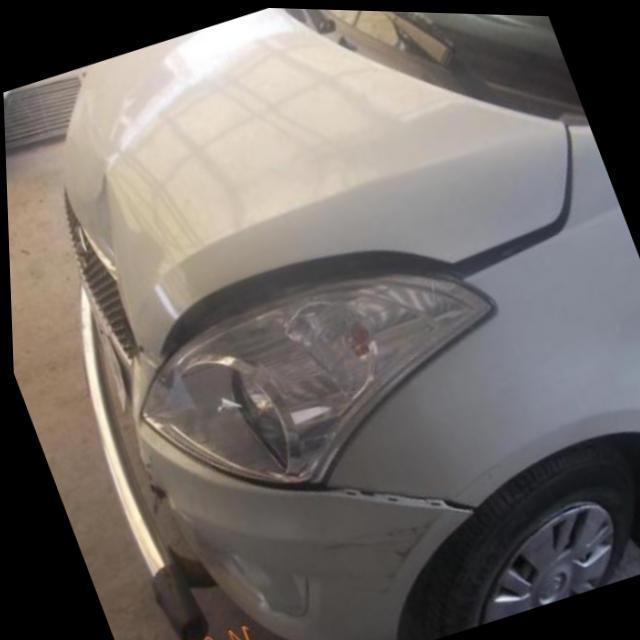crack: (315, 511, 429, 592), (142, 454, 174, 524)
dent: (75, 168, 118, 278)
dislocated part: (149, 151, 577, 366), (322, 481, 472, 521)
